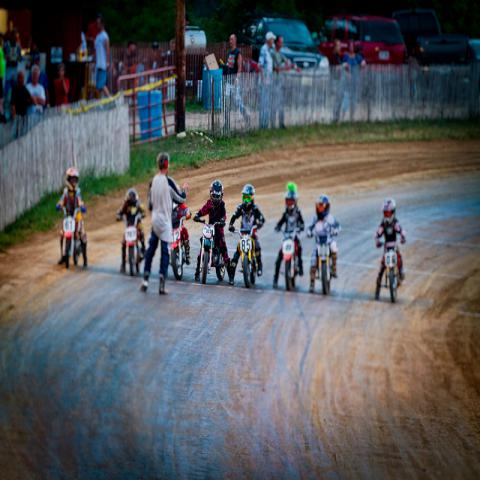car: (316, 15, 409, 64), (401, 8, 472, 62), (244, 26, 256, 38)
motorcycle: (193, 217, 227, 284), (233, 222, 262, 290), (56, 205, 85, 270), (278, 228, 304, 289), (122, 212, 146, 276), (380, 238, 403, 302), (312, 233, 334, 294), (171, 216, 187, 282)
truck: (241, 13, 329, 88)
